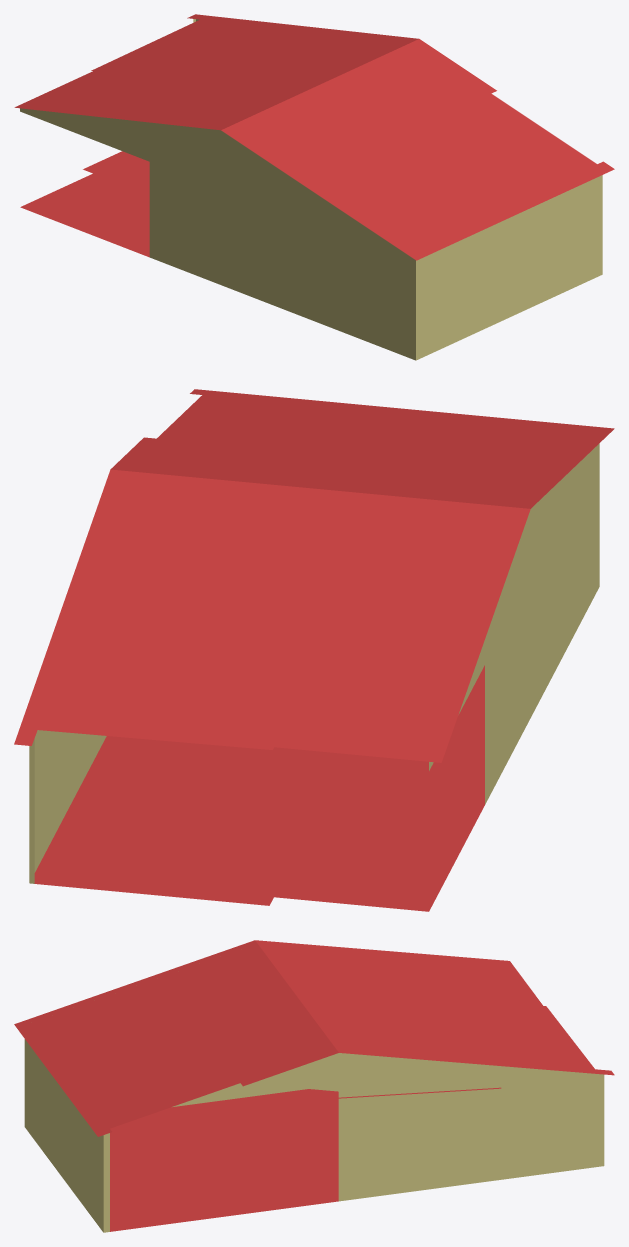
The picture shows the model from 3 angles, top to bottom: view 1: azimuth 30°, elevation 25°; view 2: azimuth 150°, elevation 25°; view 3: azimuth 270°, elevation 25°; orthographic projection. The views are drawn at different scales.
Size of the model in its own units: 37.81 by 53.71 by 15.01.
